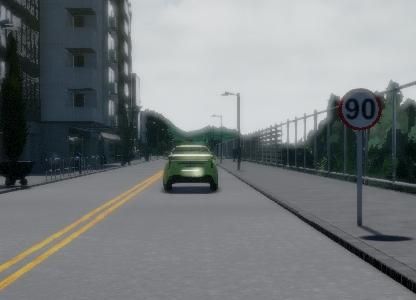Speed_90: (336, 84, 384, 131)
